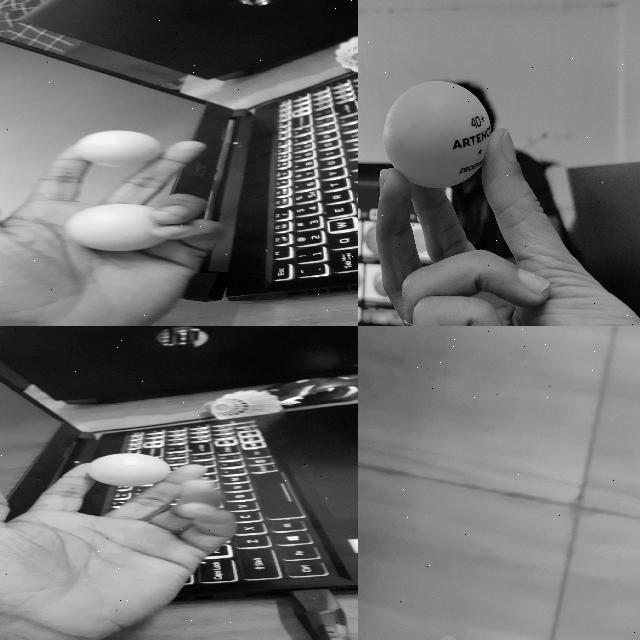ping-pong-ball: (383, 80, 489, 188), (64, 204, 160, 252), (74, 130, 164, 166), (91, 452, 166, 488), (433, 629, 462, 639)
